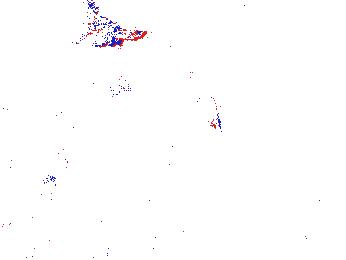glassfish: (186, 67, 227, 142)
redtail glassfish: (73, 18, 150, 47), (108, 69, 130, 101), (83, 3, 102, 27)
